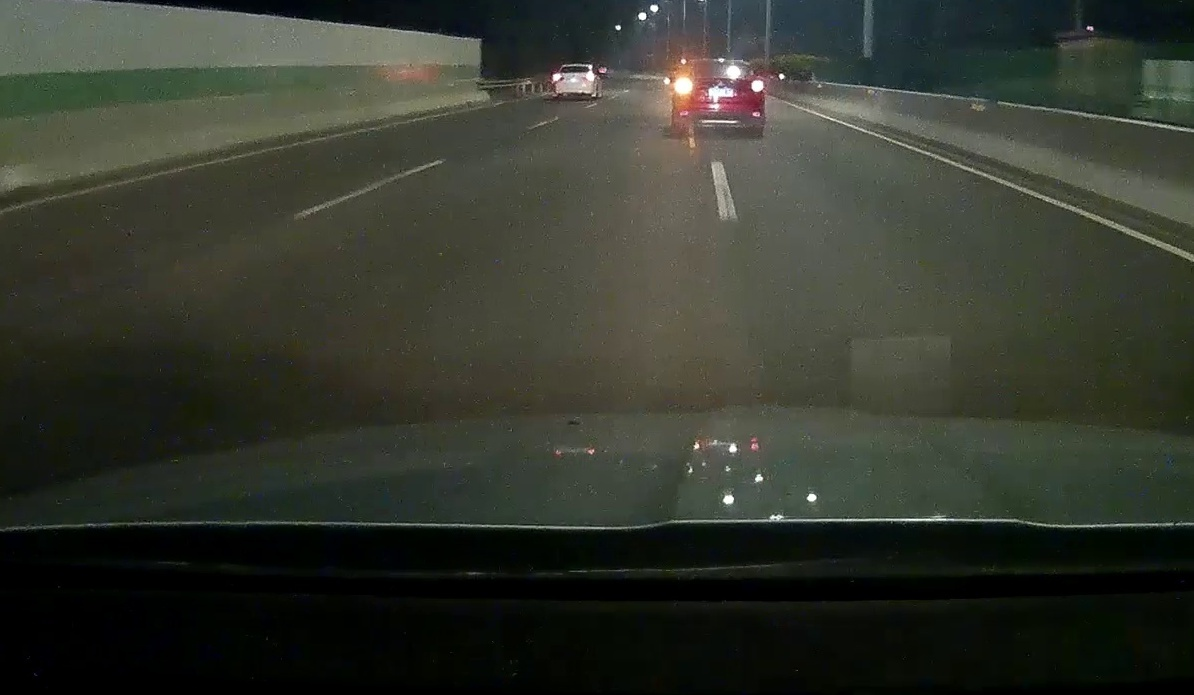L_light: (676, 82, 692, 91), (554, 74, 562, 80)
R_light: (751, 82, 764, 91), (585, 74, 594, 80)
T_light: (713, 62, 726, 66), (572, 66, 579, 68)
night-left: (672, 57, 766, 135)
night-no: (554, 63, 596, 100)
